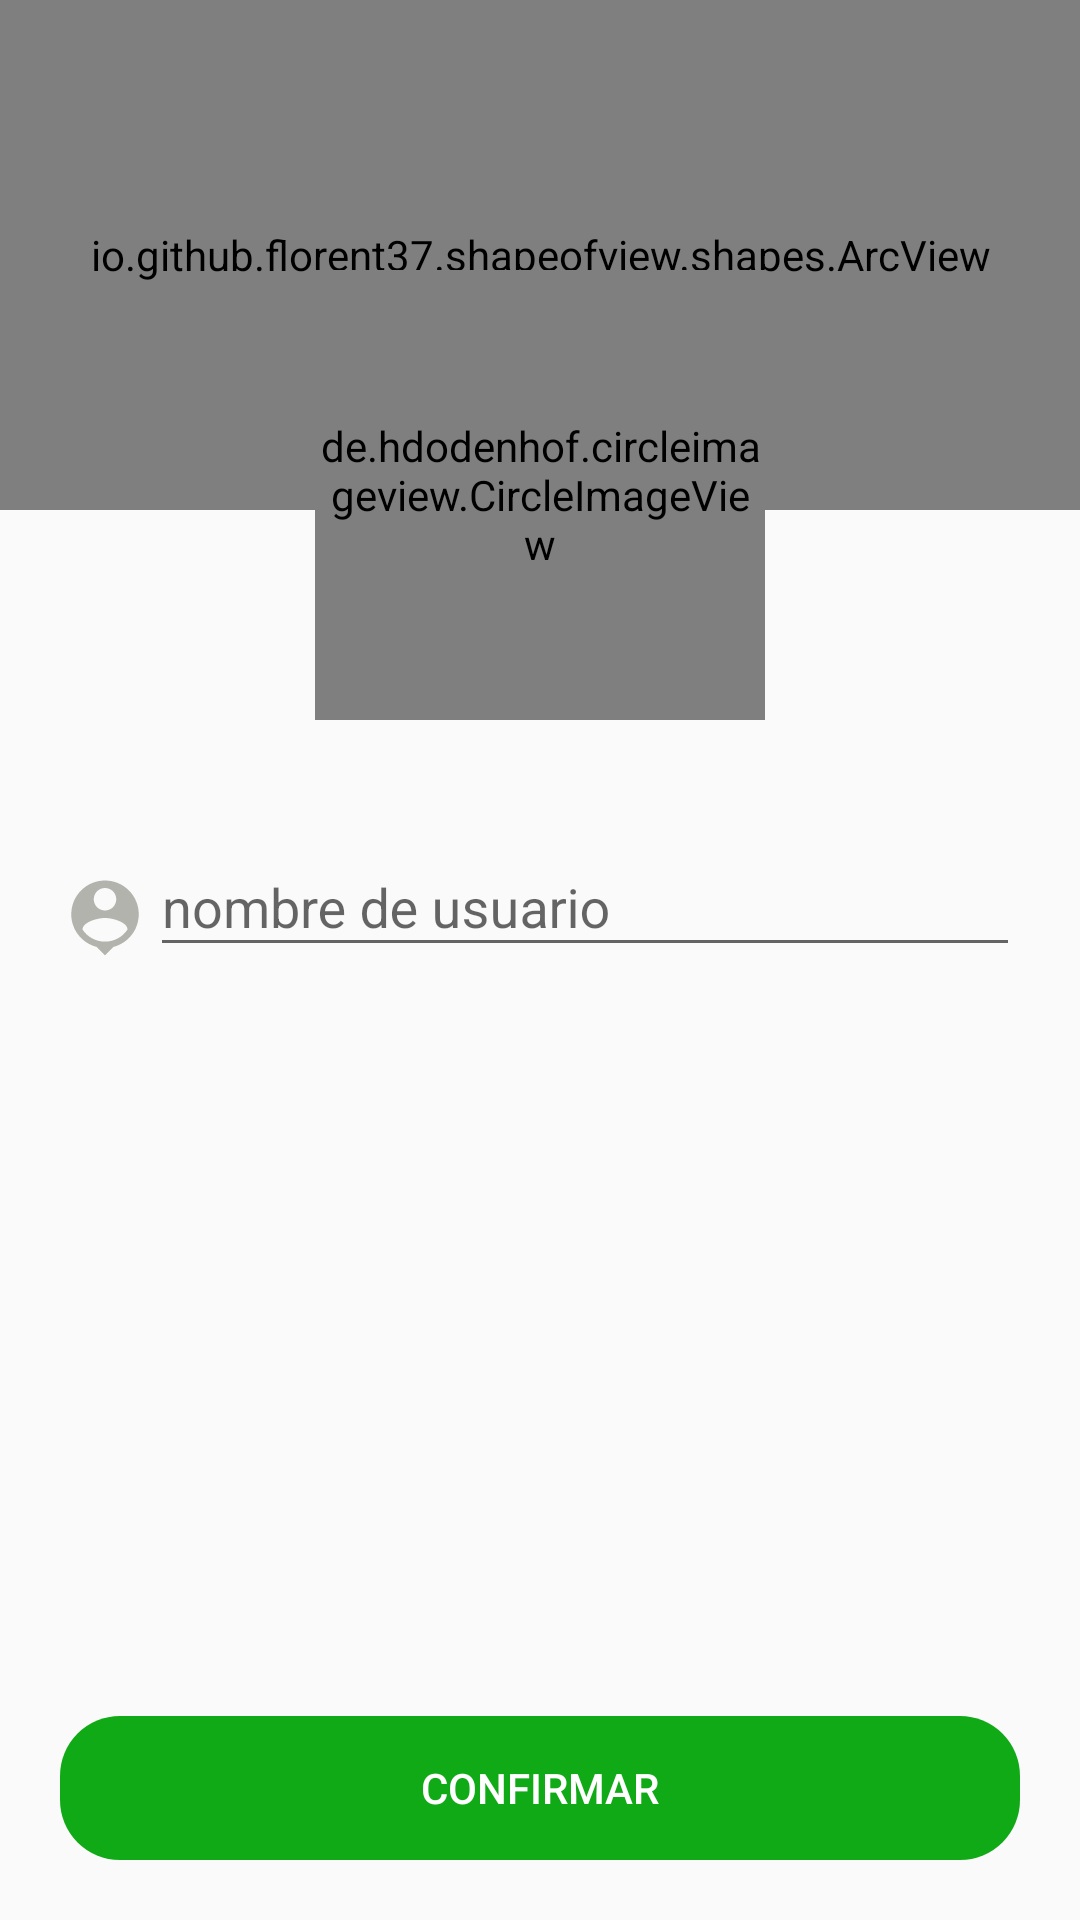

Screen size 1080*1920. Icon name, then its box in pixels as (x1, y1, x2, y2):
person pin: (71, 880, 139, 955)
